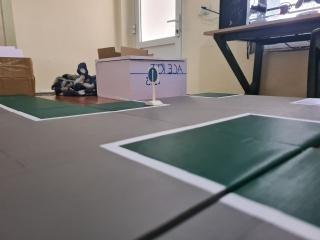straight: (146, 66, 161, 83)
